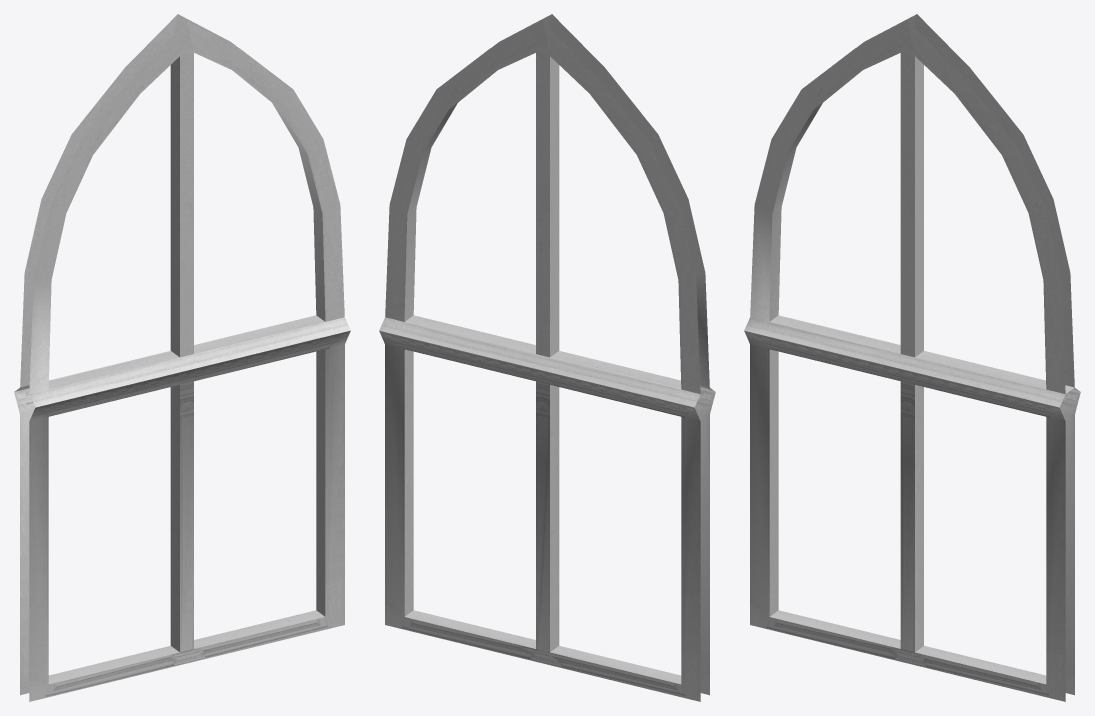
The model's file is WindowRounded1C.fbx.
3 renders of one model, left to right at view 1: azimuth 30°, elevation 25°; view 2: azimuth 150°, elevation 25°; view 3: azimuth 330°, elevation 25°, orthographic.
Visible parts, largest first — view 1: WindowRounded1C; view 2: WindowRounded1C; view 3: WindowRounded1C.
Boxes of the visible parts, <box> form: WindowRounded1C: <box>14,14,350,701</box>; WindowRounded1C: <box>379,14,715,701</box>; WindowRounded1C: <box>744,14,1080,701</box>.
Size of the model in its own units: 116 by 226 by 13.57.
